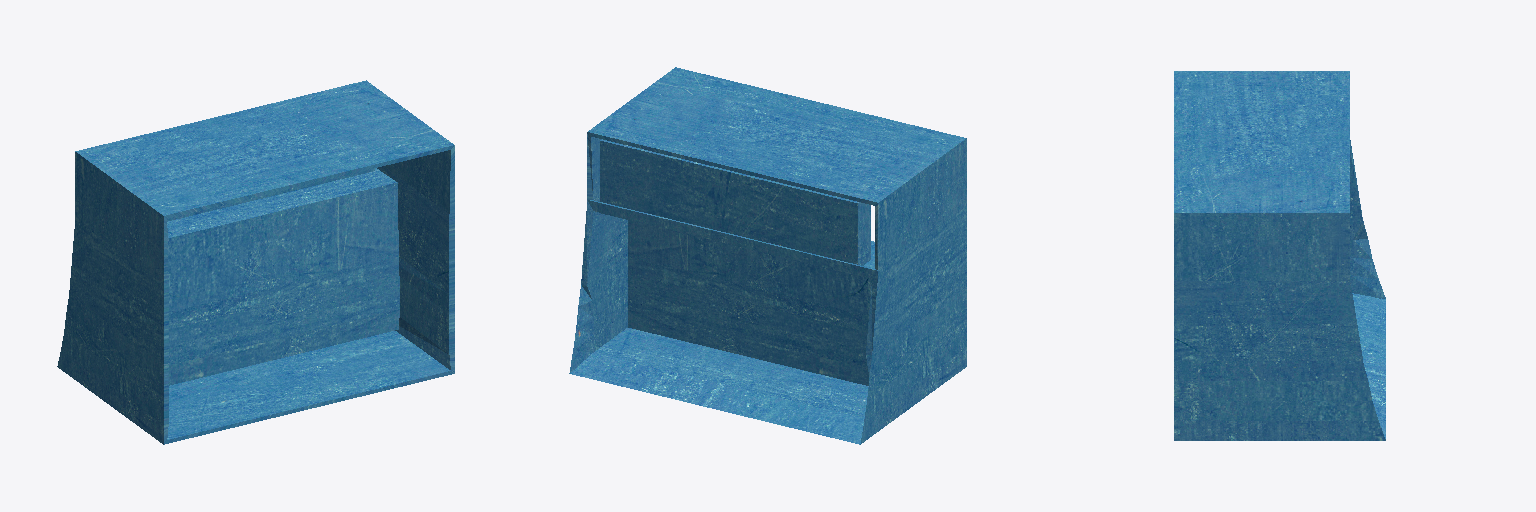
3 views of the same model, side by side, from view 1: azimuth 30°, elevation 25°; view 2: azimuth 150°, elevation 25°; view 3: azimuth 270°, elevation 25° (orthographic).
Visible parts, largest first — view 1: Cube.009; view 2: Cube.009; view 3: Cube.009.
Part boxes in pixels (left/top/right/bottom): Cube.009: left=57, top=80, right=454, bottom=444; Cube.009: left=569, top=67, right=966, bottom=444; Cube.009: left=1174, top=71, right=1385, bottom=440.
Size of the model in its own units: 0.042 by 0.0316 by 0.0266.
1 materials, 1 textured.